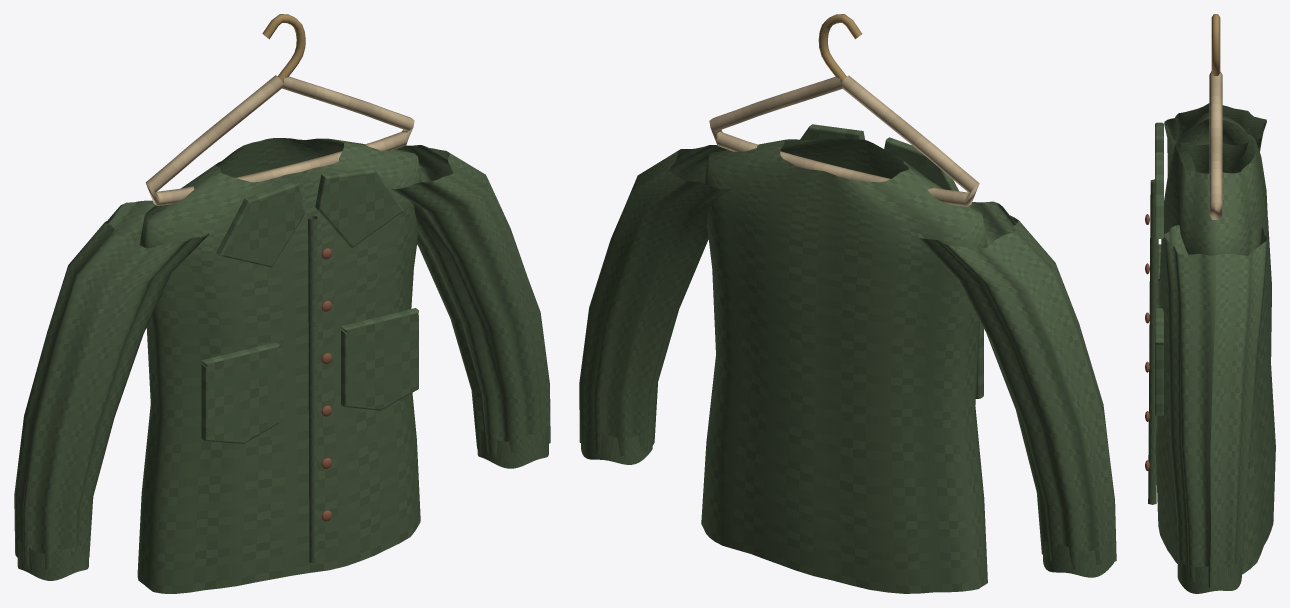
3 views of the same model, side by side, from view 1: azimuth 30°, elevation 25°; view 2: azimuth 150°, elevation 25°; view 3: azimuth 270°, elevation 25° (orthographic). The views are drawn at different scales.
Visible parts, largest first — view 1: fabric_olive, ash_grain, aged_brass; view 2: fabric_olive, ash_grain, aged_brass; view 3: fabric_olive, ash_grain, aged_brass, leather_tobacco.
Boxes of the visible parts, box(x1,y1,x2,y2) form: fabric_olive: box(14, 138, 550, 593); ash_grain: box(145, 75, 414, 205); aged_brass: box(262, 14, 305, 82); fabric_olive: box(579, 124, 1116, 593); ash_grain: box(709, 75, 979, 206); aged_brass: box(818, 14, 862, 82); fabric_olive: box(1148, 103, 1275, 593); ash_grain: box(1209, 71, 1222, 219); aged_brass: box(1211, 14, 1220, 75); leather_tobacco: box(1145, 214, 1149, 470).
Size of the model in its own units: 0.9248 by 0.9041 by 0.2123.
Materials: 4 (2 with a texture image).
